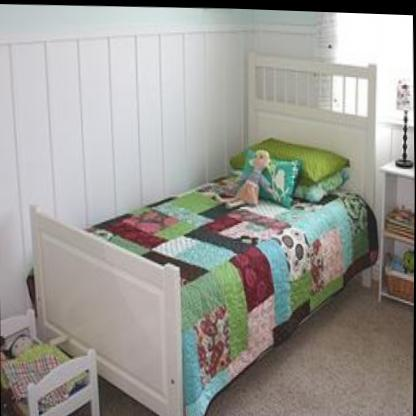Bed: (27, 43, 382, 416)
